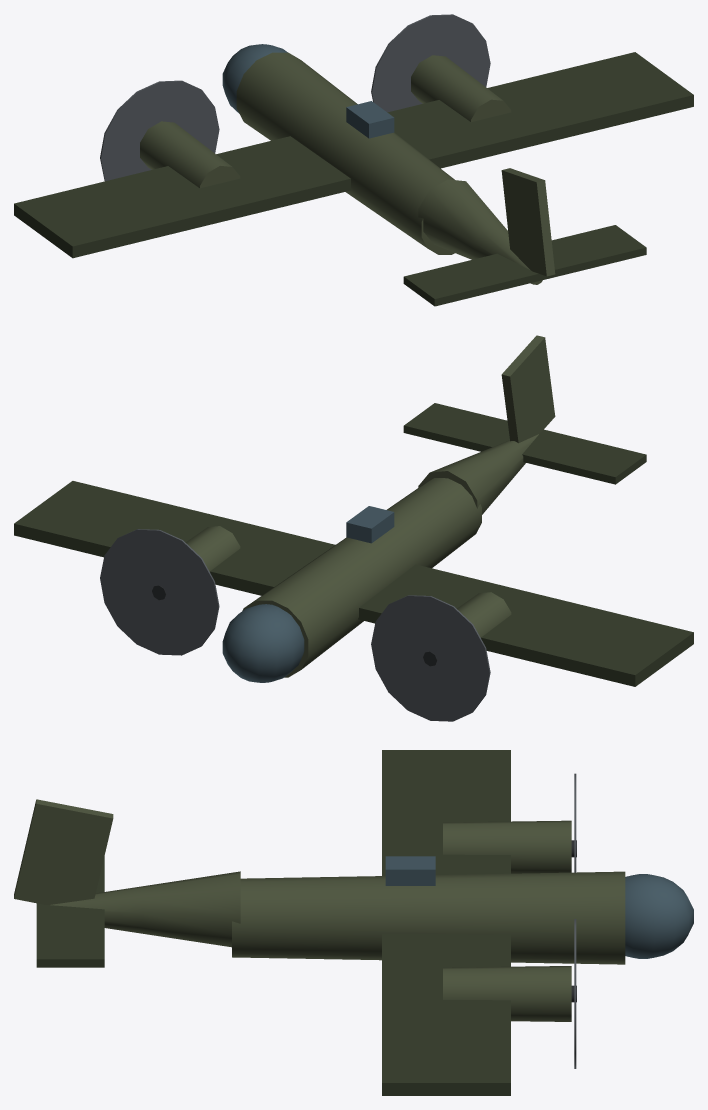
Rendered from bomber.glb.
3 views of the same model, one above another, from view 1: azimuth 30°, elevation 25°; view 2: azimuth 150°, elevation 25°; view 3: azimuth 270°, elevation 25° (orthographic). The views are drawn at different scales.
Parts seen in each view (by area): view 1: _MeshInstance3D_5, _MeshInstance3D_2, _MeshInstance3D_6, _MeshInstance3D_9, _MeshInstance3D_12, _MeshInstance3D_4, _MeshInstance3D_7, _MeshInstance3D_11, _MeshInstance3D_8, _MeshInstance3D_3, _MeshInstance3D_14; view 2: _MeshInstance3D_5, _MeshInstance3D_2, _MeshInstance3D_9, _MeshInstance3D_12, _MeshInstance3D_6, _MeshInstance3D_3, _MeshInstance3D_7, _MeshInstance3D_4, _MeshInstance3D_11, _MeshInstance3D_8, _MeshInstance3D_14; view 3: _MeshInstance3D_5, _MeshInstance3D_2, _MeshInstance3D_4, _MeshInstance3D_7, _MeshInstance3D_11, _MeshInstance3D_8, _MeshInstance3D_3, _MeshInstance3D_6, _MeshInstance3D_14.
Boxes of the visible parts, x1=… form: _MeshInstance3D_5: x1=14, y1=52, x2=693, y2=258; _MeshInstance3D_2: x1=236, y1=52, x2=455, y2=254; _MeshInstance3D_6: x1=403, y1=225, x2=646, y2=306; _MeshInstance3D_9: x1=100, y1=80, x2=219, y2=181; _MeshInstance3D_12: x1=371, y1=14, x2=490, y2=112; _MeshInstance3D_4: x1=418, y1=179, x2=542, y2=284; _MeshInstance3D_7: x1=501, y1=168, x2=555, y2=276; _MeshInstance3D_11: x1=411, y1=55, x2=511, y2=122; _MeshInstance3D_8: x1=140, y1=121, x2=240, y2=188; _MeshInstance3D_3: x1=222, y1=44, x2=287, y2=113; _MeshInstance3D_14: x1=346, y1=101, x2=394, y2=138; _MeshInstance3D_5: x1=14, y1=481, x2=693, y2=686; _MeshInstance3D_2: x1=242, y1=478, x2=481, y2=677; _MeshInstance3D_9: x1=371, y1=595, x2=490, y2=721; _MeshInstance3D_12: x1=100, y1=529, x2=219, y2=655; _MeshInstance3D_6: x1=403, y1=403, x2=646, y2=484; _MeshInstance3D_3: x1=222, y1=604, x2=304, y2=682; _MeshInstance3D_7: x1=501, y1=335, x2=555, y2=443; _MeshInstance3D_4: x1=418, y1=434, x2=538, y2=514; _MeshInstance3D_11: x1=185, y1=526, x2=240, y2=571; _MeshInstance3D_8: x1=457, y1=592, x2=511, y2=637; _MeshInstance3D_14: x1=346, y1=506, x2=394, y2=543; _MeshInstance3D_5: x1=382, y1=750, x2=510, y2=1095; _MeshInstance3D_2: x1=232, y1=871, x2=625, y2=964; _MeshInstance3D_4: x1=50, y1=871, x2=240, y2=947; _MeshInstance3D_7: x1=14, y1=799, x2=113, y2=904; _MeshInstance3D_11: x1=443, y1=966, x2=571, y2=1021; _MeshInstance3D_8: x1=443, y1=820, x2=571, y2=873; _MeshInstance3D_3: x1=625, y1=874, x2=693, y2=958; _MeshInstance3D_6: x1=36, y1=856, x2=104, y2=967; _MeshInstance3D_14: x1=385, y1=856, x2=435, y2=885.
Bounding box in the file's own units: 22 × 5.8 × 19.
